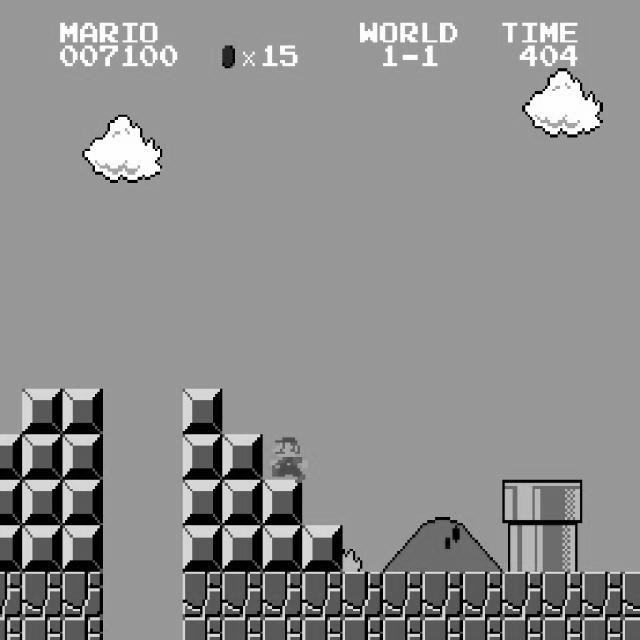11- little_mario: (265, 434, 308, 482)
14- pipe: (502, 526, 543, 572), (542, 526, 583, 572)
15- pipe_head: (502, 480, 543, 526), (542, 480, 583, 526)
17- undestructible_block: (22, 572, 63, 618), (62, 572, 103, 618), (182, 572, 223, 618), (222, 572, 263, 618), (262, 572, 303, 618), (302, 572, 343, 618), (342, 572, 383, 618), (382, 572, 423, 618), (422, 572, 463, 618), (462, 572, 503, 618), (502, 572, 543, 618), (542, 572, 583, 618), (582, 572, 623, 618), (0, 572, 22, 618), (22, 617, 63, 640), (62, 617, 103, 640), (182, 617, 223, 640), (222, 617, 263, 640), (262, 617, 303, 640), (302, 617, 343, 640), (342, 617, 383, 640), (382, 617, 423, 640), (422, 617, 463, 640), (462, 617, 503, 640), (502, 617, 543, 640), (542, 617, 583, 640), (582, 617, 623, 640), (622, 571, 640, 617), (0, 617, 22, 640), (622, 617, 640, 639)
9- hard_block: (22, 388, 63, 434), (22, 434, 63, 480), (22, 480, 63, 526), (22, 526, 63, 572), (62, 388, 103, 434), (62, 434, 103, 480), (62, 480, 103, 526), (62, 526, 103, 572), (182, 388, 223, 434), (182, 434, 223, 480), (182, 480, 223, 526), (182, 526, 223, 572), (222, 434, 263, 480), (222, 480, 263, 526), (222, 526, 263, 572), (262, 480, 303, 526), (262, 526, 303, 572), (302, 526, 343, 572), (0, 434, 22, 480), (0, 480, 22, 526), (0, 526, 22, 572)
